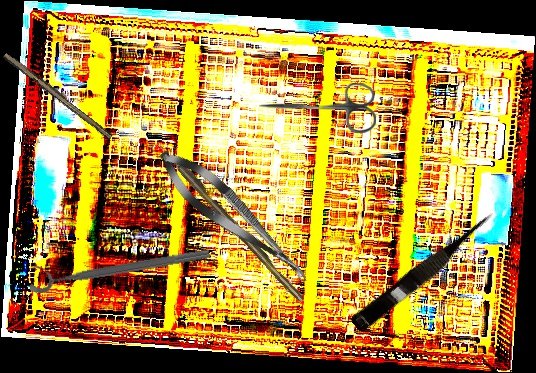Fixation Ring: (25, 234, 212, 295)
Hook Surgical: (154, 138, 306, 304)
Iris Scissors: (259, 83, 376, 133)
Micro Scissor: (149, 139, 320, 295), (349, 206, 503, 338)
Scalpel Handle: (1, 50, 116, 141)
